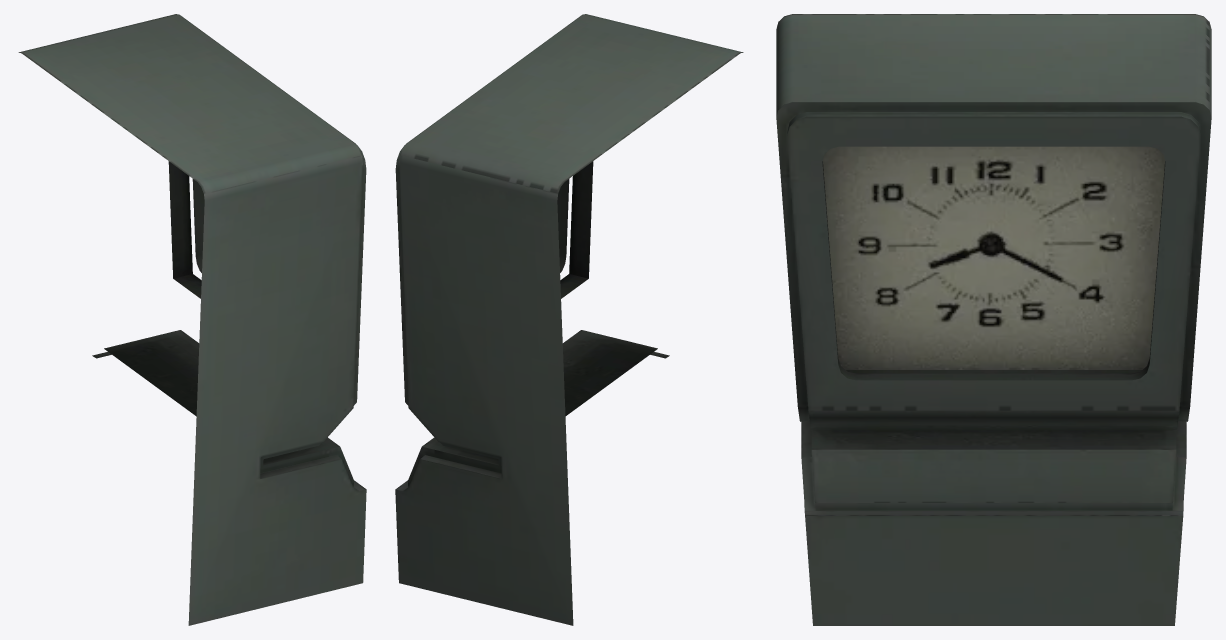
3 views of the same model, side by side, from view 1: azimuth 30°, elevation 25°; view 2: azimuth 150°, elevation 25°; view 3: azimuth 270°, elevation 25° (orthographic). The views are drawn at different scales.
Visible parts, largest first — view 1: body0_model0_lod0_mesh0; view 2: body0_model0_lod0_mesh0; view 3: body0_model0_lod0_mesh0.
Part boxes in pixels (x1,y1,x2,y2): body0_model0_lod0_mesh0: (18, 14, 366, 625); body0_model0_lod0_mesh0: (395, 14, 743, 625); body0_model0_lod0_mesh0: (776, 14, 1211, 625).
Bounding box in the file's own units: 13.28 × 32.76 × 25.1.
1 material, 1 textured.
